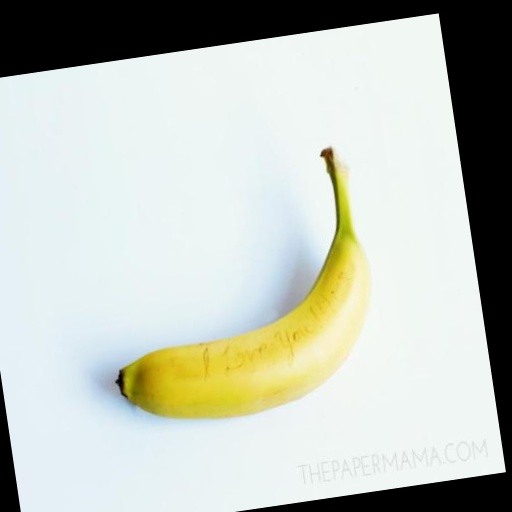fruit: (117, 148, 370, 418)
